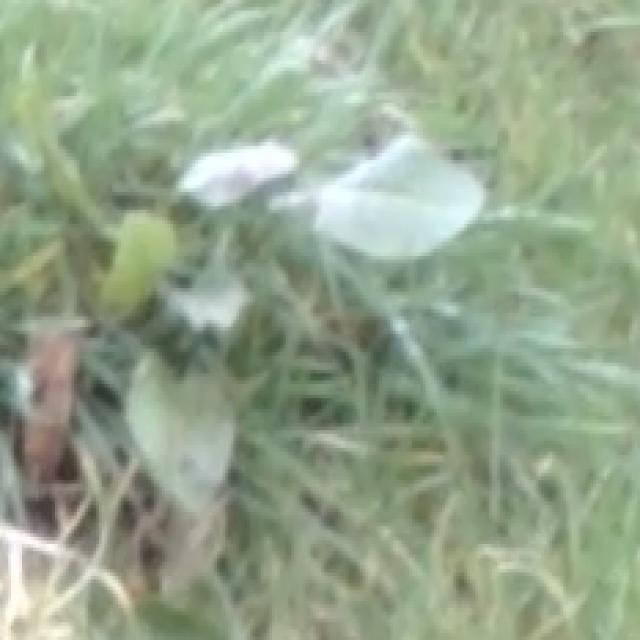organic waste: (4, 44, 478, 430)
